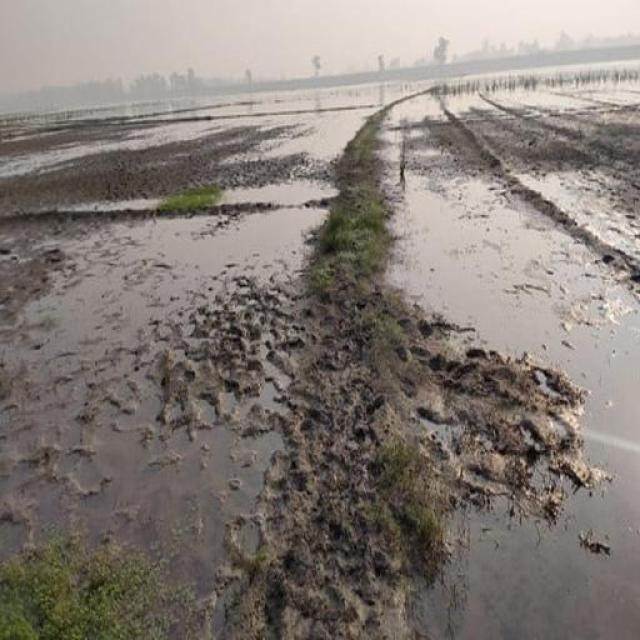puddle: (406, 177, 621, 368), (458, 501, 640, 640), (115, 198, 308, 280), (173, 99, 488, 126)
